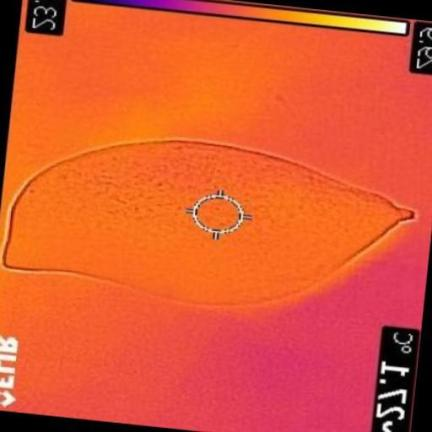mango: (6, 142, 413, 306)
